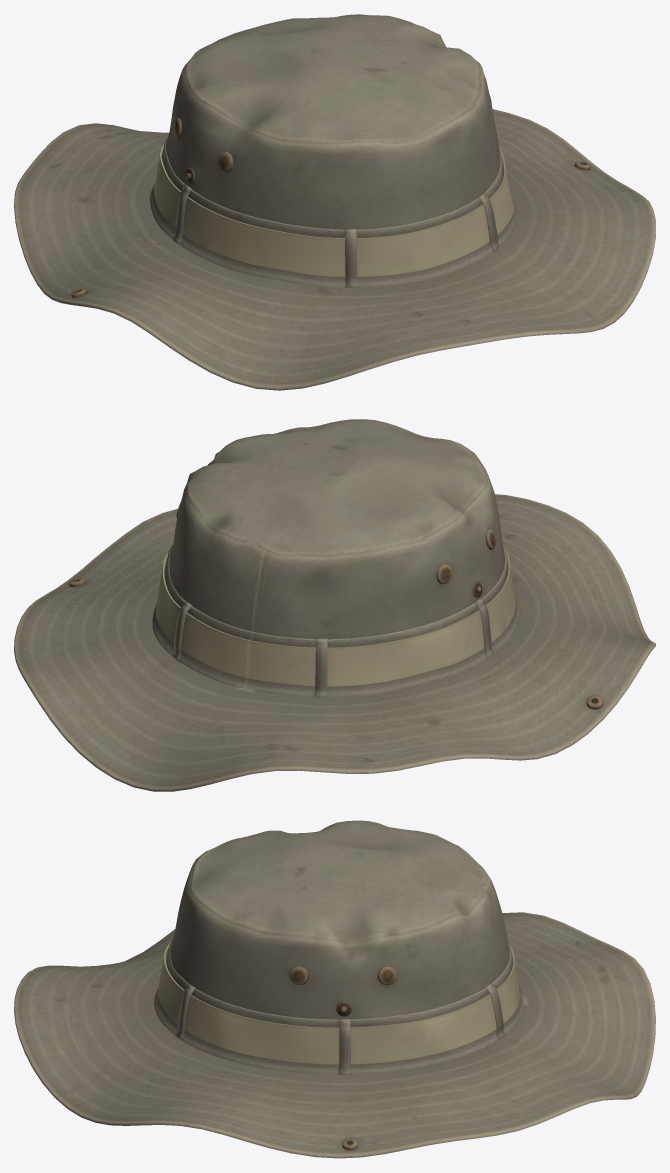
The model's file is fishermans_hat.glb.
The picture shows the model from 3 angles, top to bottom: view 1: azimuth 30°, elevation 25°; view 2: azimuth 150°, elevation 25°; view 3: azimuth 270°, elevation 25°; orthographic projection. The views are drawn at different scales.
Parts seen in each view (by area): view 1: fishermans_hat; view 2: fishermans_hat; view 3: fishermans_hat.
Part boxes in pixels (box(x1,y1,x2,y2)): fishermans_hat: box(14, 14, 655, 390); fishermans_hat: box(14, 419, 655, 791); fishermans_hat: box(14, 820, 655, 1158).
Size of the model in its own units: 0.3236 by 0.1239 by 0.35.
1 material, 1 textured.
